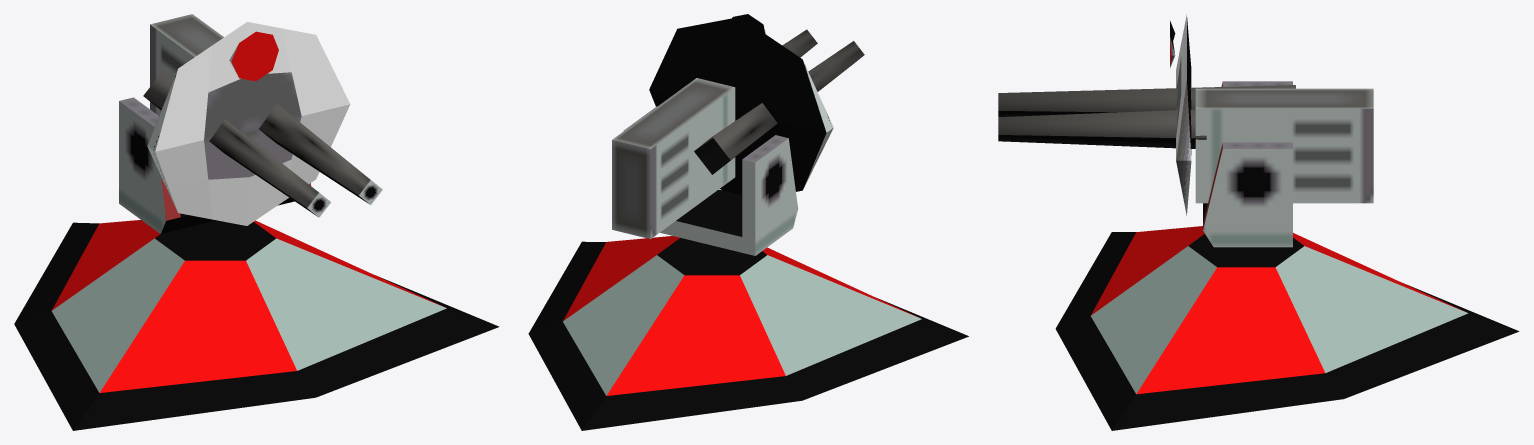
File: AA_MachineGun_1.fbx
3 views of the same model, side by side, from view 1: azimuth 30°, elevation 25°; view 2: azimuth 150°, elevation 25°; view 3: azimuth 270°, elevation 25° (orthographic). The views are drawn at different scales.
Visible parts, largest first — view 1: Machine Gun Base, MachineGun Barrel; view 2: Machine Gun Base, MachineGun Barrel; view 3: Machine Gun Base, MachineGun Barrel.
Part boxes in pixels (box(x1,y1,x2,y2)): Machine Gun Base: box(14, 220, 499, 430); MachineGun Barrel: box(119, 14, 382, 233); Machine Gun Base: box(528, 236, 968, 430); MachineGun Barrel: box(612, 14, 864, 255); Machine Gun Base: box(1055, 226, 1519, 430); MachineGun Barrel: box(998, 14, 1373, 247).
Bounding box in the file's own units: 723 × 801 × 532.
